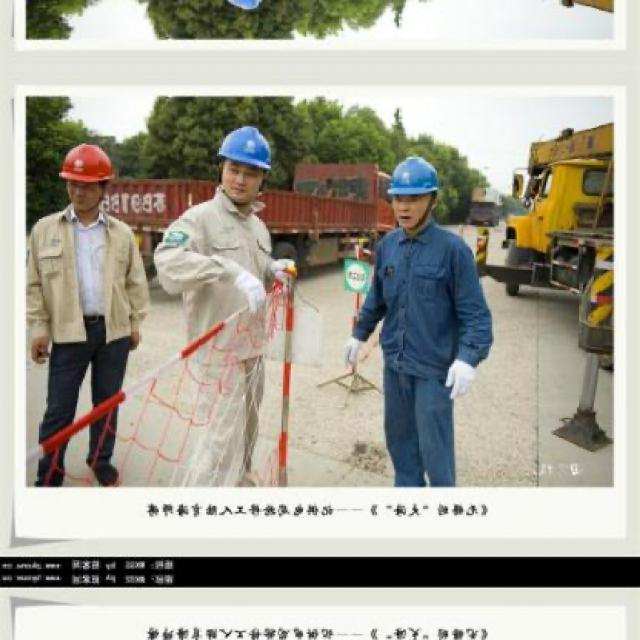helmet: (212, 118, 280, 210), (384, 151, 444, 236), (57, 139, 118, 214), (211, 0, 280, 19)
